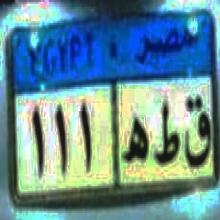1: (54, 103, 72, 177), (78, 98, 95, 174), (33, 101, 46, 176)
Taa: (153, 100, 180, 170)
haa: (121, 113, 149, 170)
qaaf: (181, 89, 212, 167)
